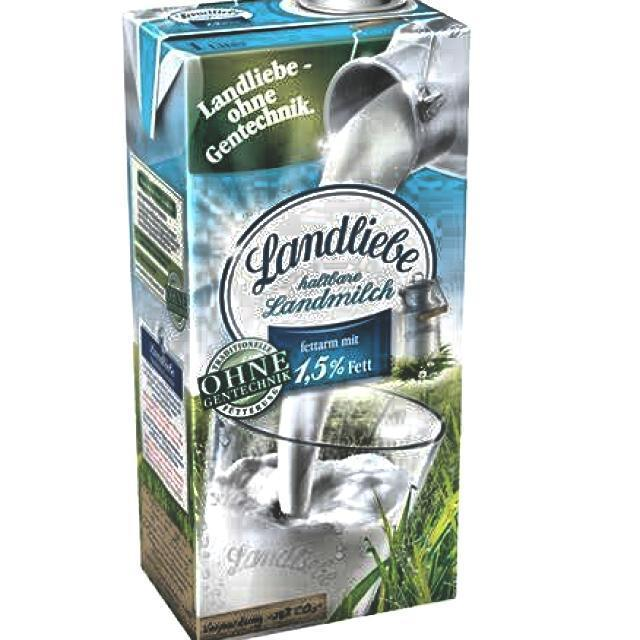cardboard: (120, 0, 469, 640)
